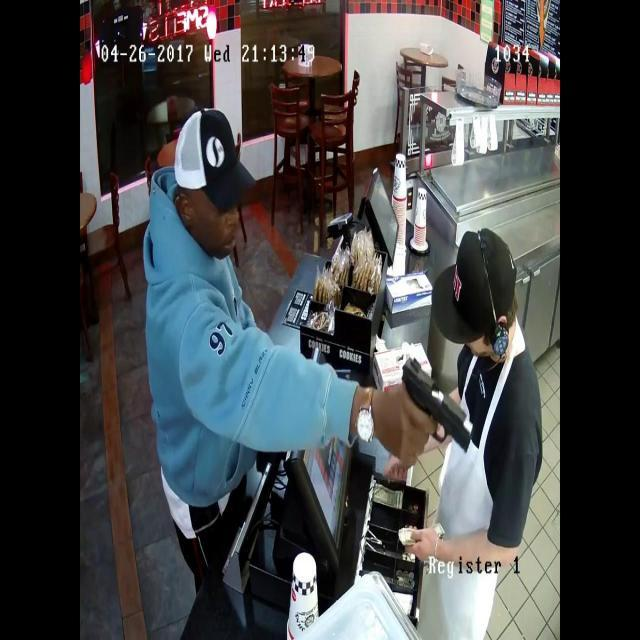weapon: (378, 344, 488, 466)
